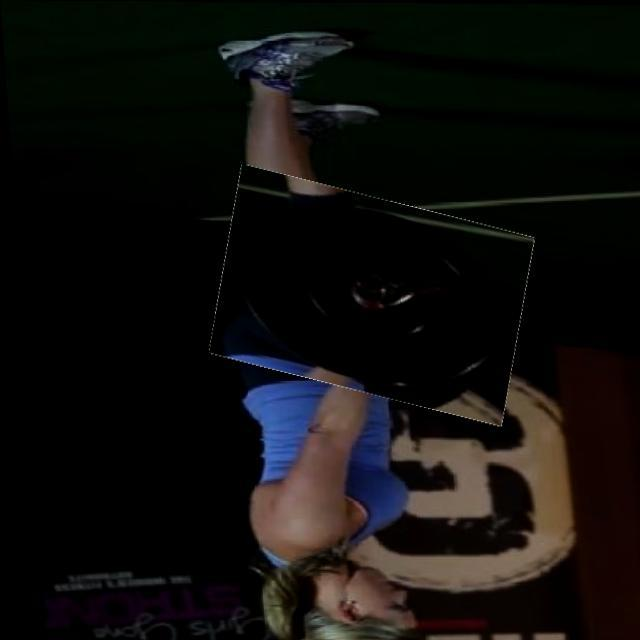barbell: (204, 181, 532, 410)
